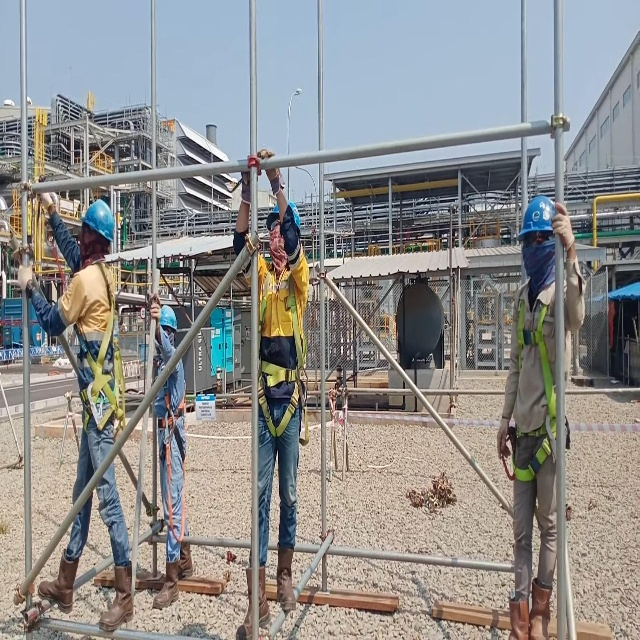Arnes_seguridad: (504, 277, 568, 474), (257, 256, 310, 455), (74, 255, 128, 441), (160, 375, 188, 544)
